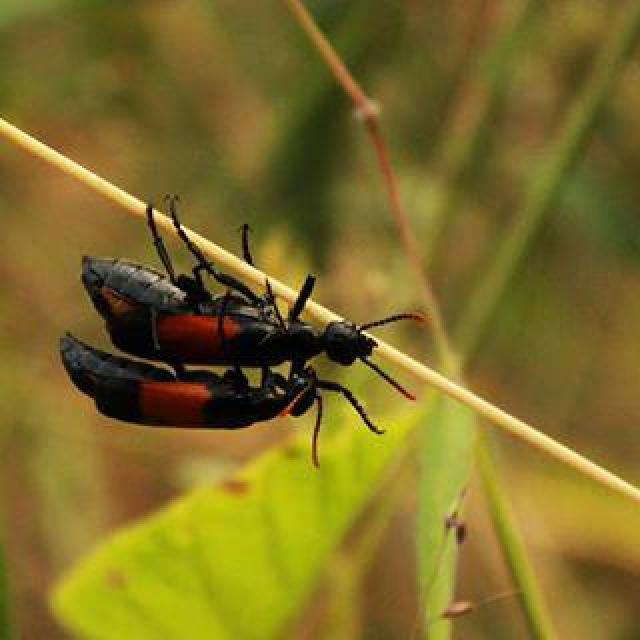BlisterBeetle-Adult-: (77, 191, 418, 370), (47, 329, 330, 441)
